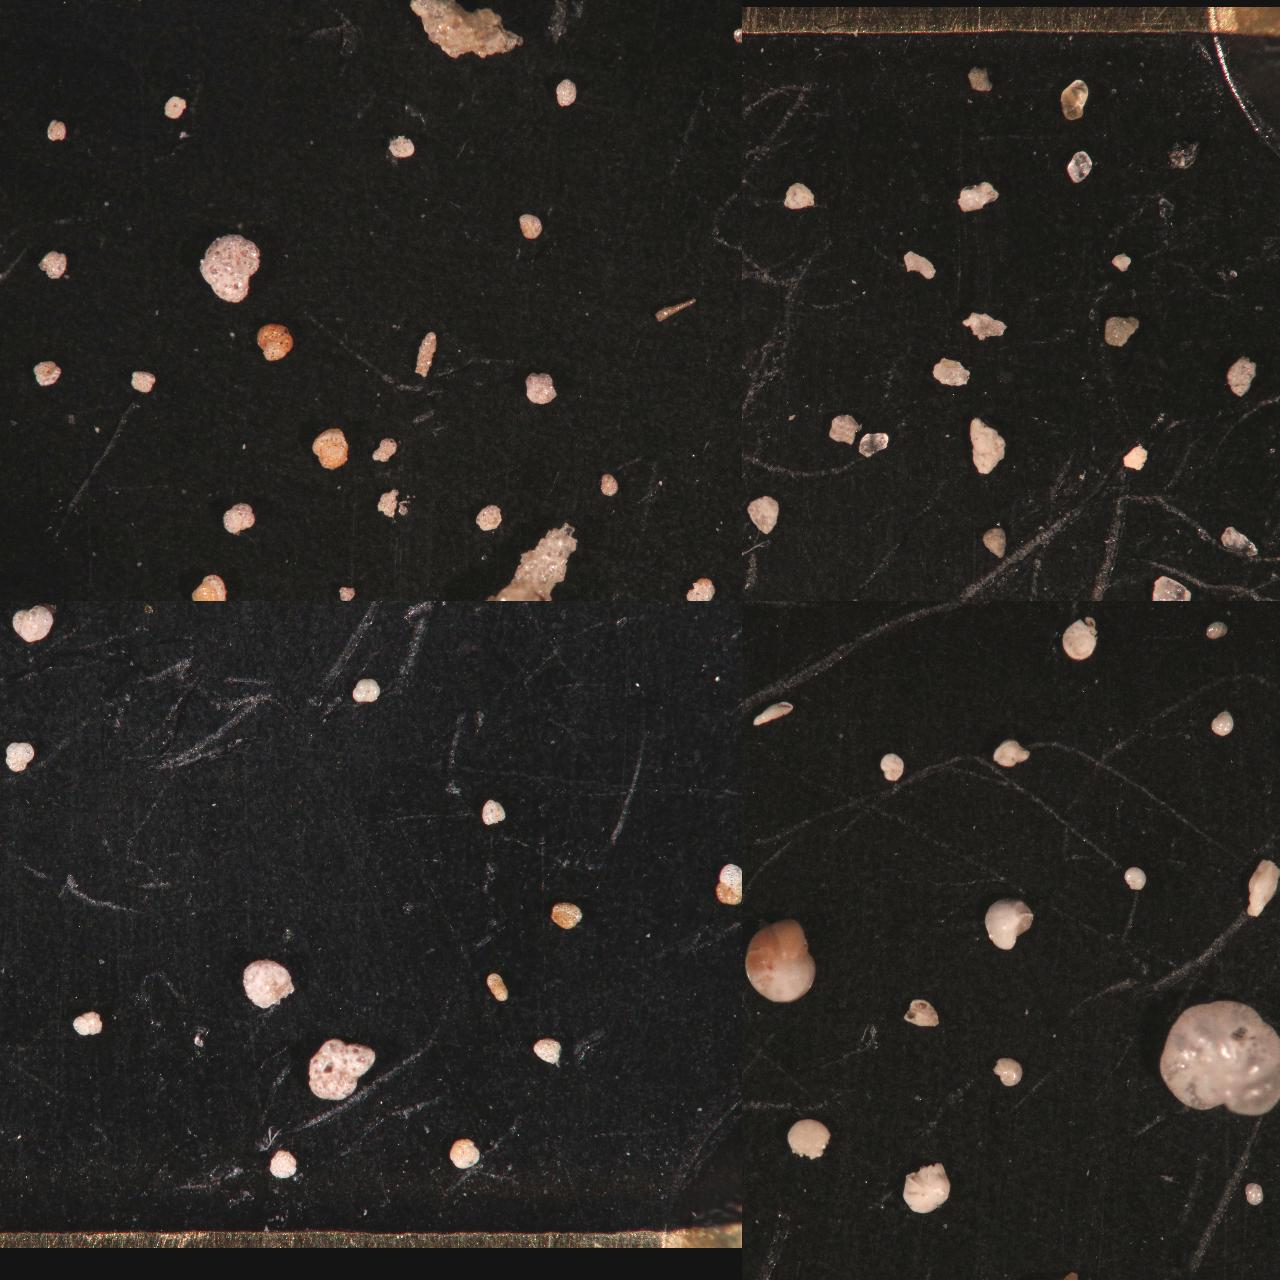Sediment: (742, 245, 775, 325), (967, 416, 1007, 476), (742, 84, 772, 139), (745, 493, 783, 536), (1057, 77, 1091, 121), (953, 182, 1001, 212), (960, 309, 1008, 340), (1219, 525, 1260, 559), (1226, 355, 1260, 396), (930, 356, 973, 386), (1102, 314, 1141, 347), (826, 413, 862, 445), (901, 250, 939, 279), (1152, 576, 1194, 601), (858, 430, 892, 459), (1067, 150, 1094, 184), (982, 525, 1008, 560), (783, 183, 817, 209), (966, 64, 994, 94), (1124, 443, 1152, 470), (742, 399, 760, 437), (742, 411, 760, 448), (742, 177, 762, 207), (742, 199, 760, 229), (742, 483, 760, 512), (742, 478, 756, 513), (742, 274, 760, 302), (742, 55, 757, 86), (1110, 252, 1133, 271), (742, 395, 760, 420), (742, 278, 758, 304), (742, 298, 756, 325), (742, 435, 755, 459), (742, 583, 758, 601), (742, 448, 753, 471)
agglutinated: (440, 523, 578, 601), (411, 0, 527, 55), (308, 1039, 377, 1101), (199, 234, 261, 302), (241, 960, 297, 1010), (0, 1069, 35, 1148), (312, 425, 350, 469), (256, 324, 294, 361), (13, 606, 54, 640), (524, 370, 559, 403), (413, 331, 437, 377), (190, 574, 230, 601), (449, 1138, 482, 1170), (716, 863, 742, 903), (656, 297, 700, 320), (220, 504, 256, 532), (4, 742, 36, 771), (69, 1010, 103, 1039), (550, 903, 585, 930), (0, 877, 23, 913), (479, 799, 509, 828), (266, 1150, 297, 1177), (32, 360, 64, 384), (0, 706, 28, 734), (474, 505, 504, 531), (38, 251, 68, 277), (531, 1039, 563, 1063), (683, 578, 716, 601), (0, 765, 20, 802), (484, 974, 510, 1001), (353, 679, 381, 703), (375, 489, 399, 516), (372, 438, 399, 462), (554, 77, 577, 105), (388, 135, 416, 157), (519, 213, 543, 238), (424, 601, 457, 619), (162, 96, 188, 118), (291, 601, 313, 626), (131, 370, 157, 392), (0, 601, 26, 622), (45, 120, 68, 141), (0, 745, 14, 781), (0, 920, 18, 948), (602, 601, 636, 614), (599, 474, 619, 495), (0, 922, 15, 949), (411, 601, 449, 611), (0, 917, 13, 944), (526, 601, 549, 617), (0, 792, 14, 816), (0, 672, 15, 693), (560, 601, 585, 614), (731, 15, 742, 42), (339, 586, 358, 600), (0, 601, 16, 615), (0, 601, 16, 615), (0, 858, 11, 878), (0, 601, 15, 614), (0, 601, 16, 610), (200, 601, 218, 607)
calcareous: (1157, 1000, 1280, 1116), (743, 915, 818, 1005), (742, 940, 785, 1024), (982, 897, 1035, 949), (903, 1163, 952, 1216), (787, 1118, 835, 1162), (1246, 858, 1280, 918), (1061, 618, 1099, 660), (992, 738, 1033, 767), (753, 701, 794, 729), (904, 998, 940, 1029), (742, 881, 767, 926), (990, 1055, 1024, 1087), (878, 753, 906, 782), (742, 642, 763, 681), (742, 1250, 767, 1280), (742, 1189, 761, 1228), (742, 1141, 760, 1183), (1122, 864, 1148, 891), (1211, 709, 1235, 735), (1204, 619, 1231, 640), (1241, 1182, 1266, 1204), (742, 701, 758, 734), (742, 1118, 757, 1148), (742, 601, 758, 617)
